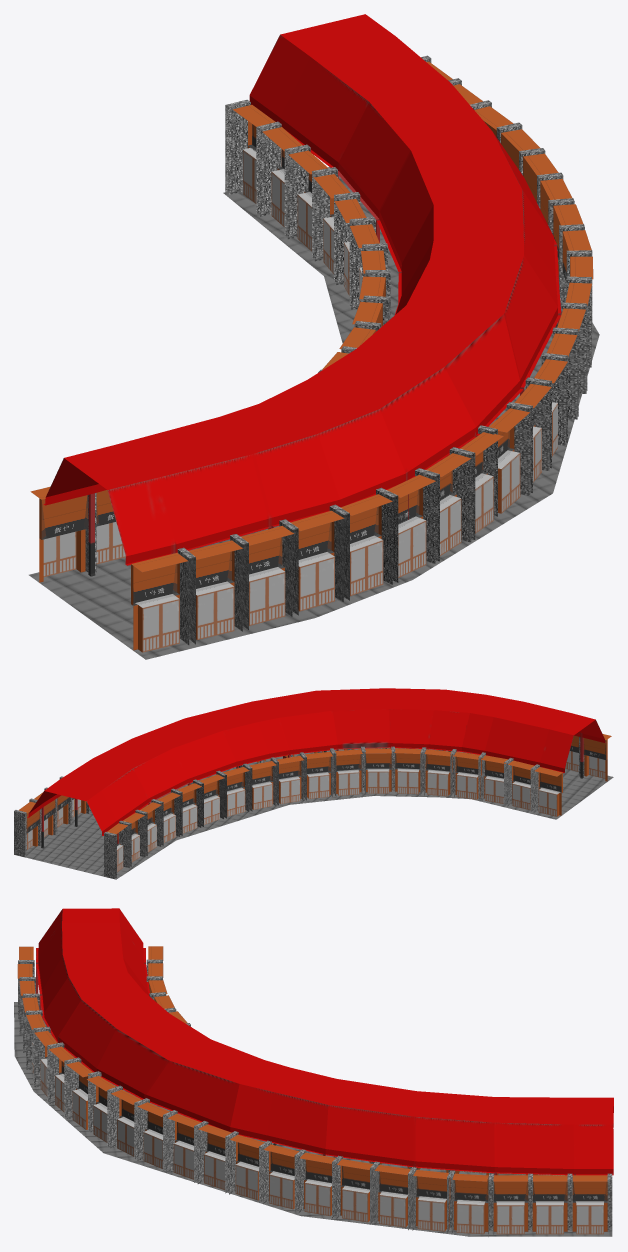
The picture shows the model from 3 angles, top to bottom: view 1: azimuth 30°, elevation 25°; view 2: azimuth 150°, elevation 25°; view 3: azimuth 270°, elevation 25°; orthographic projection. The views are drawn at different scales.
Visible parts, largest first — view 1: Torii1, Ground2, Right42, Right19, Right44, Right41, Right43, Right40, Right39, Right36, Right38, LeftPillar1 (+24 smaller); view 2: Torii1, Ground2, Right15, Right13, Right11, Right14, Right16, Right19, Right10, Right9, Right8, Right42 (+28 smaller); view 3: Torii1, Ground2, Right21, Right23, Right22, Right25, Right26, Right28, Right27, Right29, Right30, Right31 (+21 smaller).
Boxes of the visible parts, x1=… form: Torii1: x1=43, y1=14, x2=561, y2=576; Ground2: x1=29, y1=167, x2=599, y2=659; Right42: x1=131, y1=553, x2=188, y2=652; Right19: x1=30, y1=486, x2=87, y2=582; Right44: x1=188, y1=540, x2=242, y2=640; Right41: x1=290, y1=510, x2=344, y2=611; Right43: x1=241, y1=525, x2=294, y2=625; Right40: x1=340, y1=494, x2=392, y2=596; Right39: x1=387, y1=474, x2=435, y2=577; Right36: x1=489, y1=408, x2=529, y2=513; Right38: x1=426, y1=453, x2=471, y2=555; LeftPillar1: x1=225, y1=99, x2=250, y2=194; Torii1: x1=27, y1=688, x2=605, y2=848; Ground2: x1=25, y1=748, x2=613, y2=879; Right15: x1=424, y1=749, x2=452, y2=796; Right13: x1=365, y1=748, x2=391, y2=793; Right11: x1=335, y1=749, x2=362, y2=795; Right14: x1=394, y1=748, x2=421, y2=794; Right16: x1=453, y1=751, x2=481, y2=799; Right19: x1=534, y1=767, x2=562, y2=816; Right10: x1=305, y1=751, x2=332, y2=798; Right9: x1=277, y1=755, x2=304, y2=803; Right8: x1=249, y1=761, x2=276, y2=809; Right42: x1=583, y1=734, x2=611, y2=781; Torii1: x1=36, y1=908, x2=613, y2=1175; Ground2: x1=14, y1=1002, x2=612, y2=1236; Right21: x1=572, y1=1175, x2=607, y2=1234; Right23: x1=493, y1=1175, x2=528, y2=1234; Right22: x1=532, y1=1175, x2=567, y2=1234; Right25: x1=452, y1=1173, x2=488, y2=1234; Right26: x1=413, y1=1170, x2=450, y2=1231; Right28: x1=337, y1=1159, x2=372, y2=1222; Right27: x1=374, y1=1165, x2=410, y2=1227; Right29: x1=300, y1=1152, x2=335, y2=1216; Right30: x1=263, y1=1144, x2=298, y2=1209; Right31: x1=229, y1=1134, x2=264, y2=1200.
Bounding box in the file's own units: 153 × 28.35 × 164.
1 material, 1 textured.
